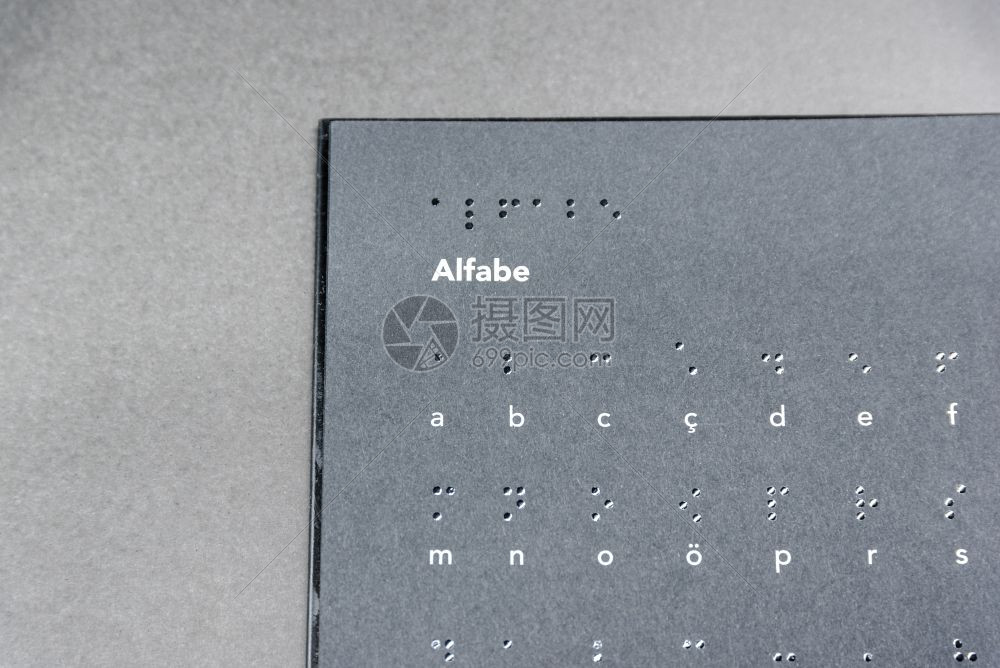Braille: (674, 340, 701, 393), (935, 348, 962, 393), (499, 483, 527, 525), (504, 349, 532, 390), (430, 482, 457, 524), (588, 485, 614, 526), (848, 350, 872, 393), (679, 484, 702, 527), (765, 487, 792, 523), (762, 349, 785, 390), (855, 486, 880, 523), (591, 350, 613, 390), (431, 194, 453, 232), (945, 482, 967, 520), (599, 197, 622, 233), (498, 196, 520, 233), (434, 350, 456, 386), (463, 194, 483, 232), (532, 196, 553, 231), (566, 196, 586, 232)
